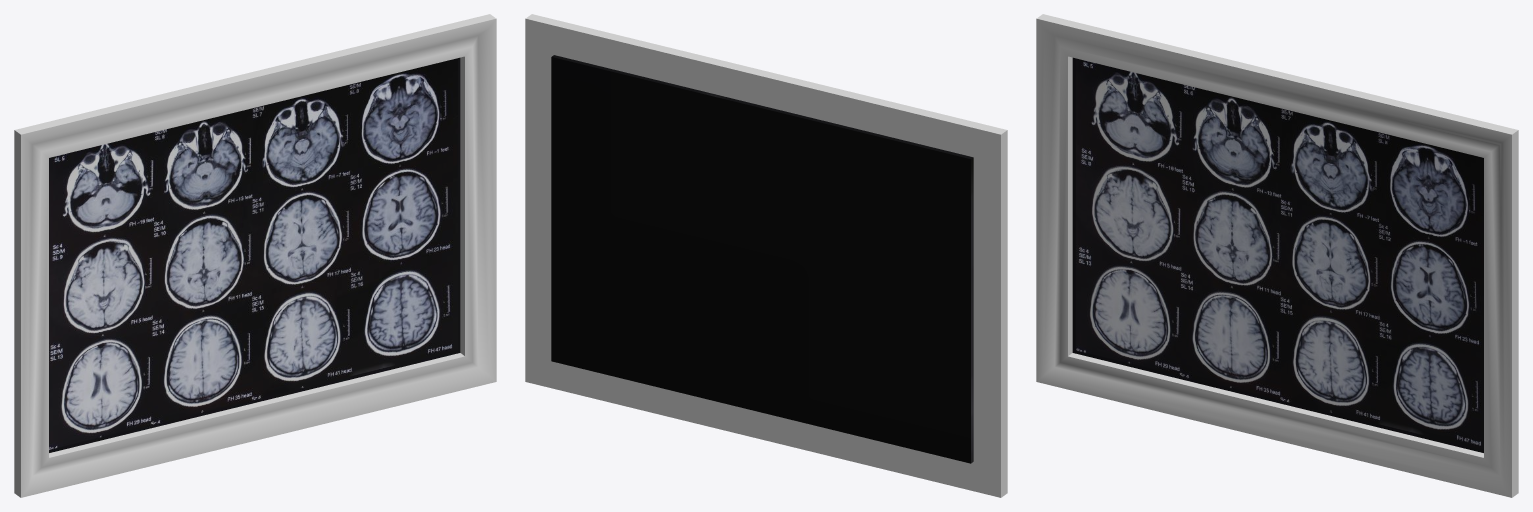
File: xray_brain.FBX
3 views of the same model, side by side, from view 1: azimuth 30°, elevation 25°; view 2: azimuth 150°, elevation 25°; view 3: azimuth 330°, elevation 25° (orthographic).
Visible parts, largest first — view 1: canvas_xray_brain, frame_xray_brain; view 2: canvas_xray_brain, frame_xray_brain; view 3: canvas_xray_brain, frame_xray_brain.
Part boxes in pixels (x1,y1,x2,y2): canvas_xray_brain: [49, 57, 460, 452]; frame_xray_brain: [14, 14, 496, 497]; canvas_xray_brain: [551, 55, 973, 463]; frame_xray_brain: [525, 14, 1007, 497]; canvas_xray_brain: [1072, 57, 1483, 452]; frame_xray_brain: [1036, 14, 1518, 497].
Size of the model in its own units: 119 by 87.06 by 3.95.
1 material, 1 textured.
